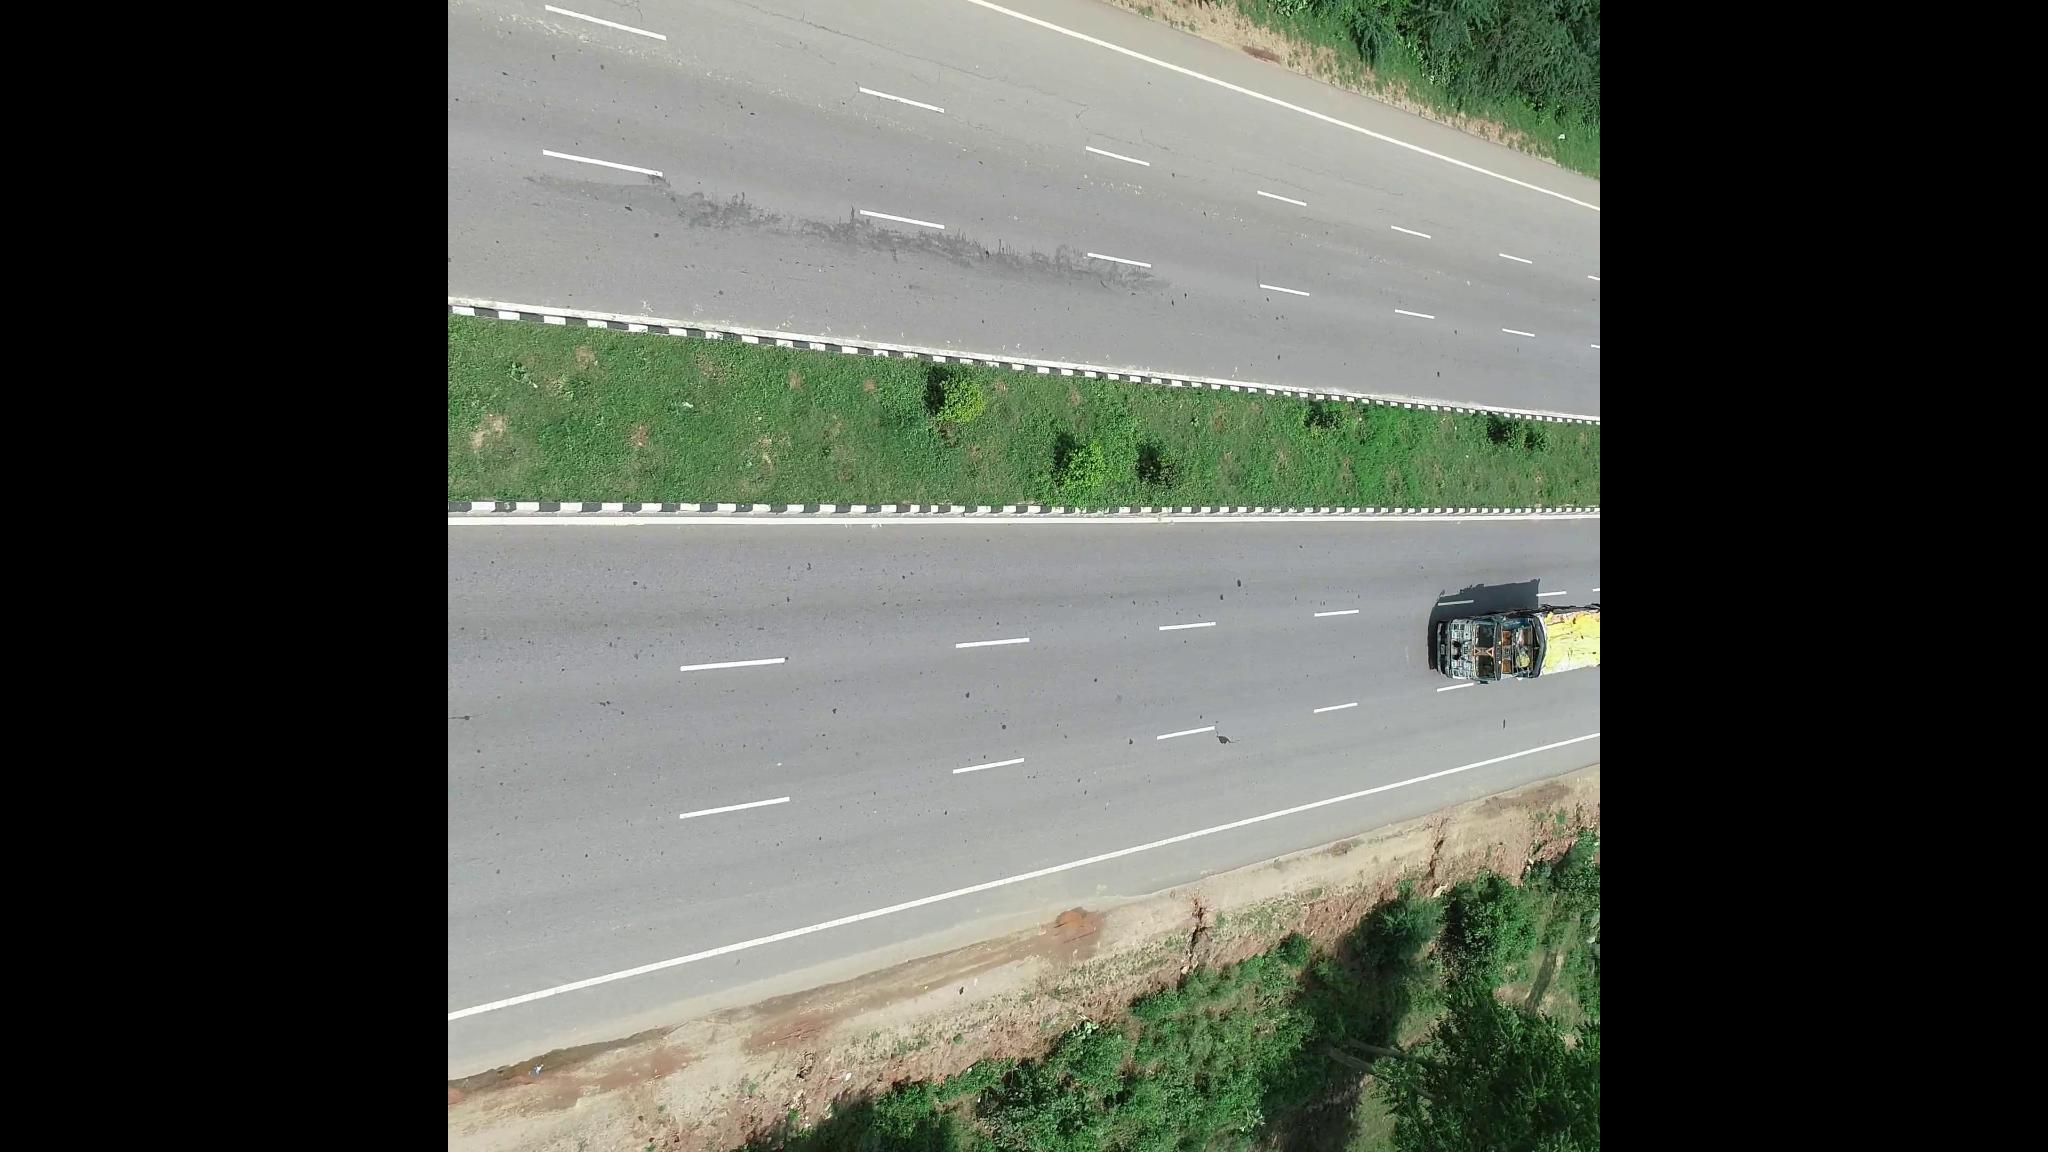Ravelling: (758, 6, 955, 77)
